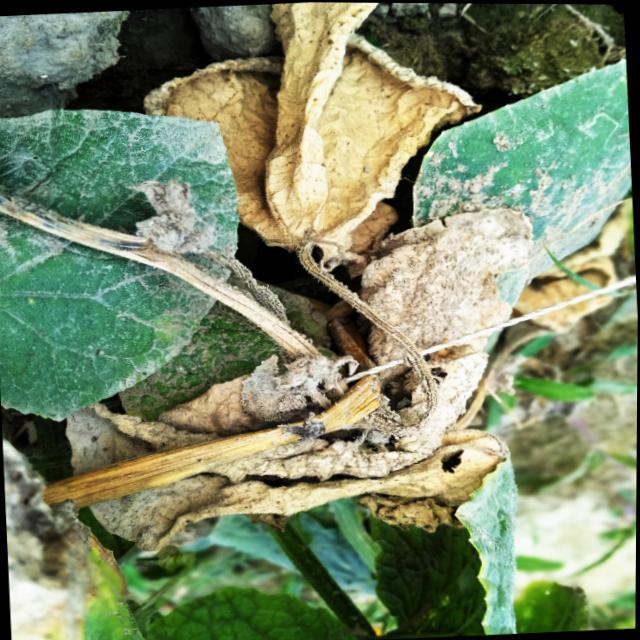Bacterial-Wilt: (144, 2, 487, 284)
